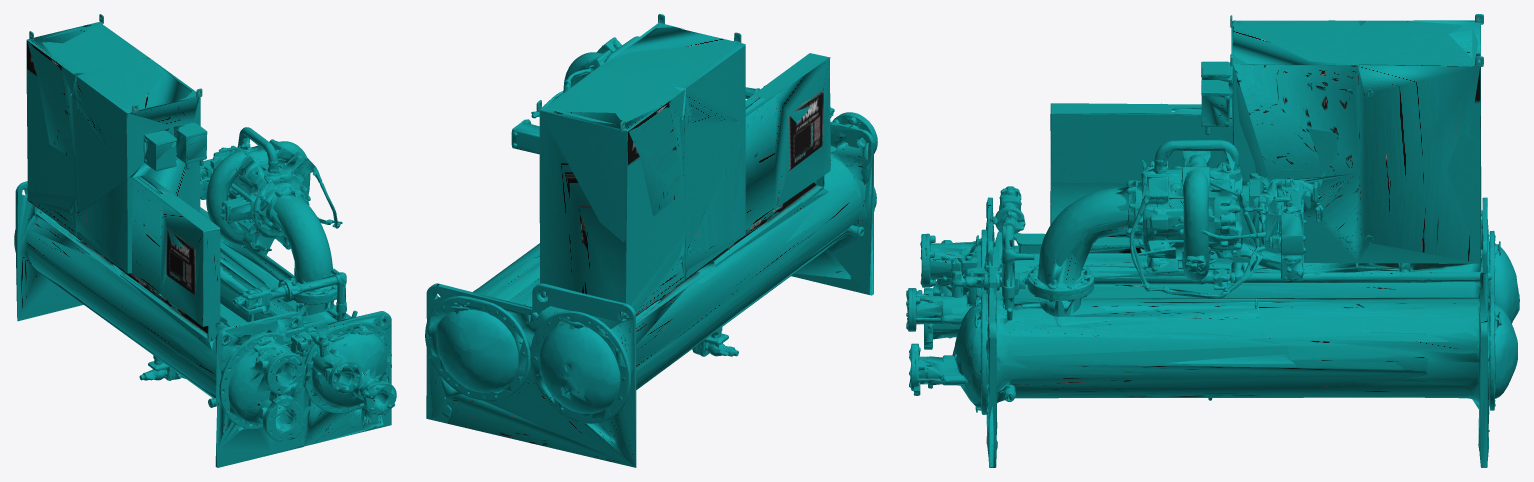
Rendered from ymc2.glb.
3 renders of one model, left to right at view 1: azimuth 30°, elevation 25°; view 2: azimuth 150°, elevation 25°; view 3: azimuth 270°, elevation 25°, orthographic. The views are drawn at different scales.
Parts seen in each view (by area): view 1: Mesh_0, lod-far, lod-near; view 2: lod-far, Mesh_0, lod-near; view 3: lod-far, Mesh_0, lod-near.
Part boxes in pixels (x1,y1,x2,y2): Mesh_0: (14,14,396,467); lod-far: (16,18,395,467); lod-near: (16,16,394,467); lod-far: (426,17,873,467); Mesh_0: (425,14,877,466); lod-near: (426,18,873,467); lod-far: (906,17,1519,467); Mesh_0: (906,14,1519,467); lod-near: (906,15,1518,467).
Size of the model in its own units: 0.8445 by 1.22 by 1.9.
1 material, 1 textured.
